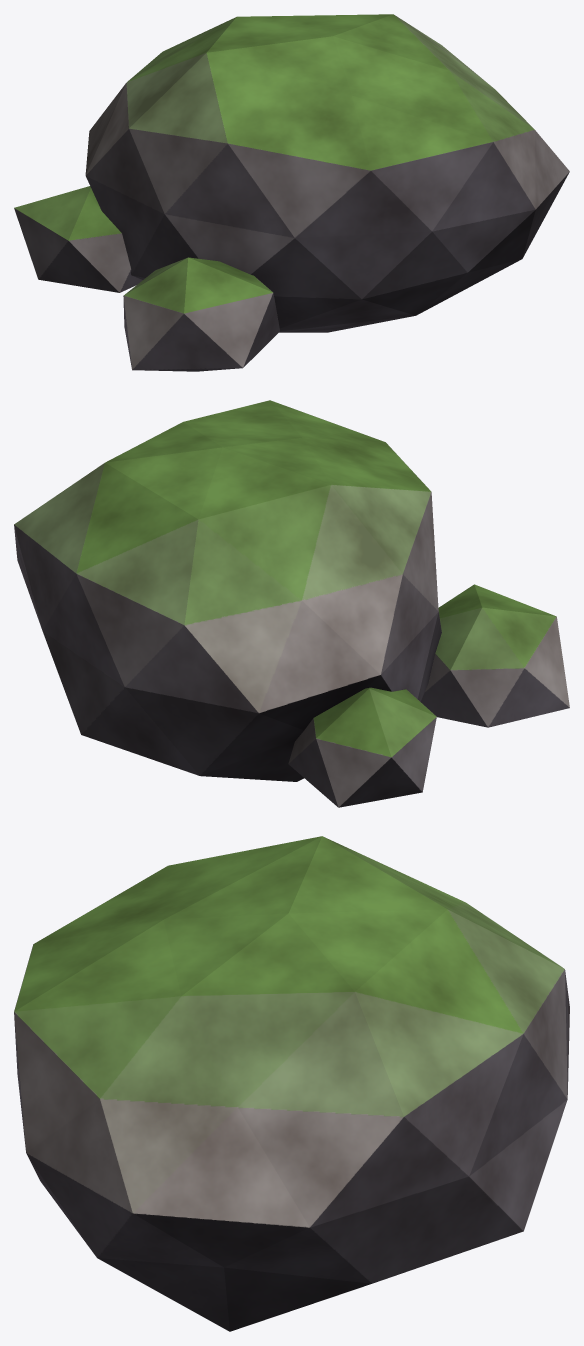
File: Env_Boulder_2.glb
The picture shows the model from 3 angles, top to bottom: view 1: azimuth 30°, elevation 25°; view 2: azimuth 150°, elevation 25°; view 3: azimuth 270°, elevation 25°; orthographic projection. The views are drawn at different scales.
Visible parts, largest first — view 1: Env_Boulder_2.001; view 2: Env_Boulder_2.001; view 3: Env_Boulder_2.001.
Part boxes in pixels (bbox=[...]): Env_Boulder_2.001: bbox=[14, 14, 569, 371]; Env_Boulder_2.001: bbox=[14, 400, 569, 807]; Env_Boulder_2.001: bbox=[14, 836, 569, 1331].
Size of the model in its own units: 5 by 3.07 by 4.02.
1 material, 1 textured.
